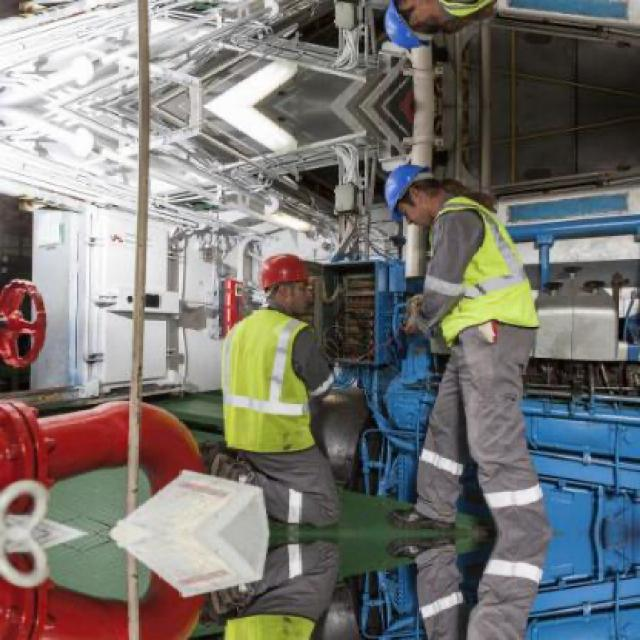helmet: (382, 154, 440, 228), (254, 248, 315, 315), (380, 0, 440, 60)
